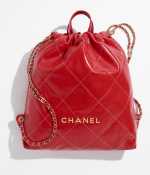channel: (17, 19, 143, 159), (34, 87, 60, 147), (57, 110, 103, 127)
